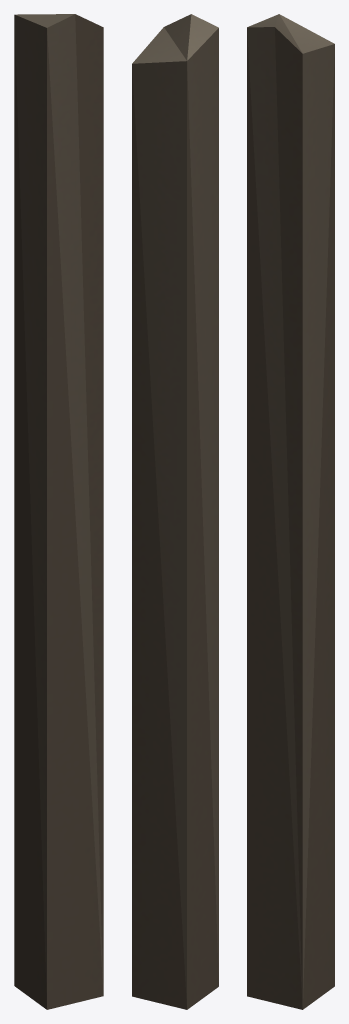
Rendered from Wood_8_LOD.fbx.
3 views of the same model, side by side, from view 1: azimuth 30°, elevation 25°; view 2: azimuth 150°, elevation 25°; view 3: azimuth 330°, elevation 25° (orthographic). The views are drawn at different scales.
Visible parts, largest first — view 1: polySurface1195; view 2: polySurface1195; view 3: polySurface1195.
Boxes of the visible parts, x1=… form: polySurface1195: x1=14, y1=14, x2=103, y2=1009; polySurface1195: x1=132, y1=14, x2=218, y2=1009; polySurface1195: x1=247, y1=14, x2=334, y2=1009.
Bounding box in the file's own units: 0.33 × 5.52 × 0.33.
